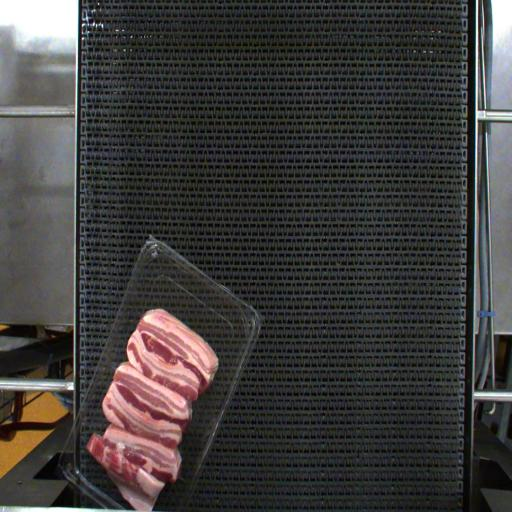twisted-meat: (84, 448, 175, 504)
